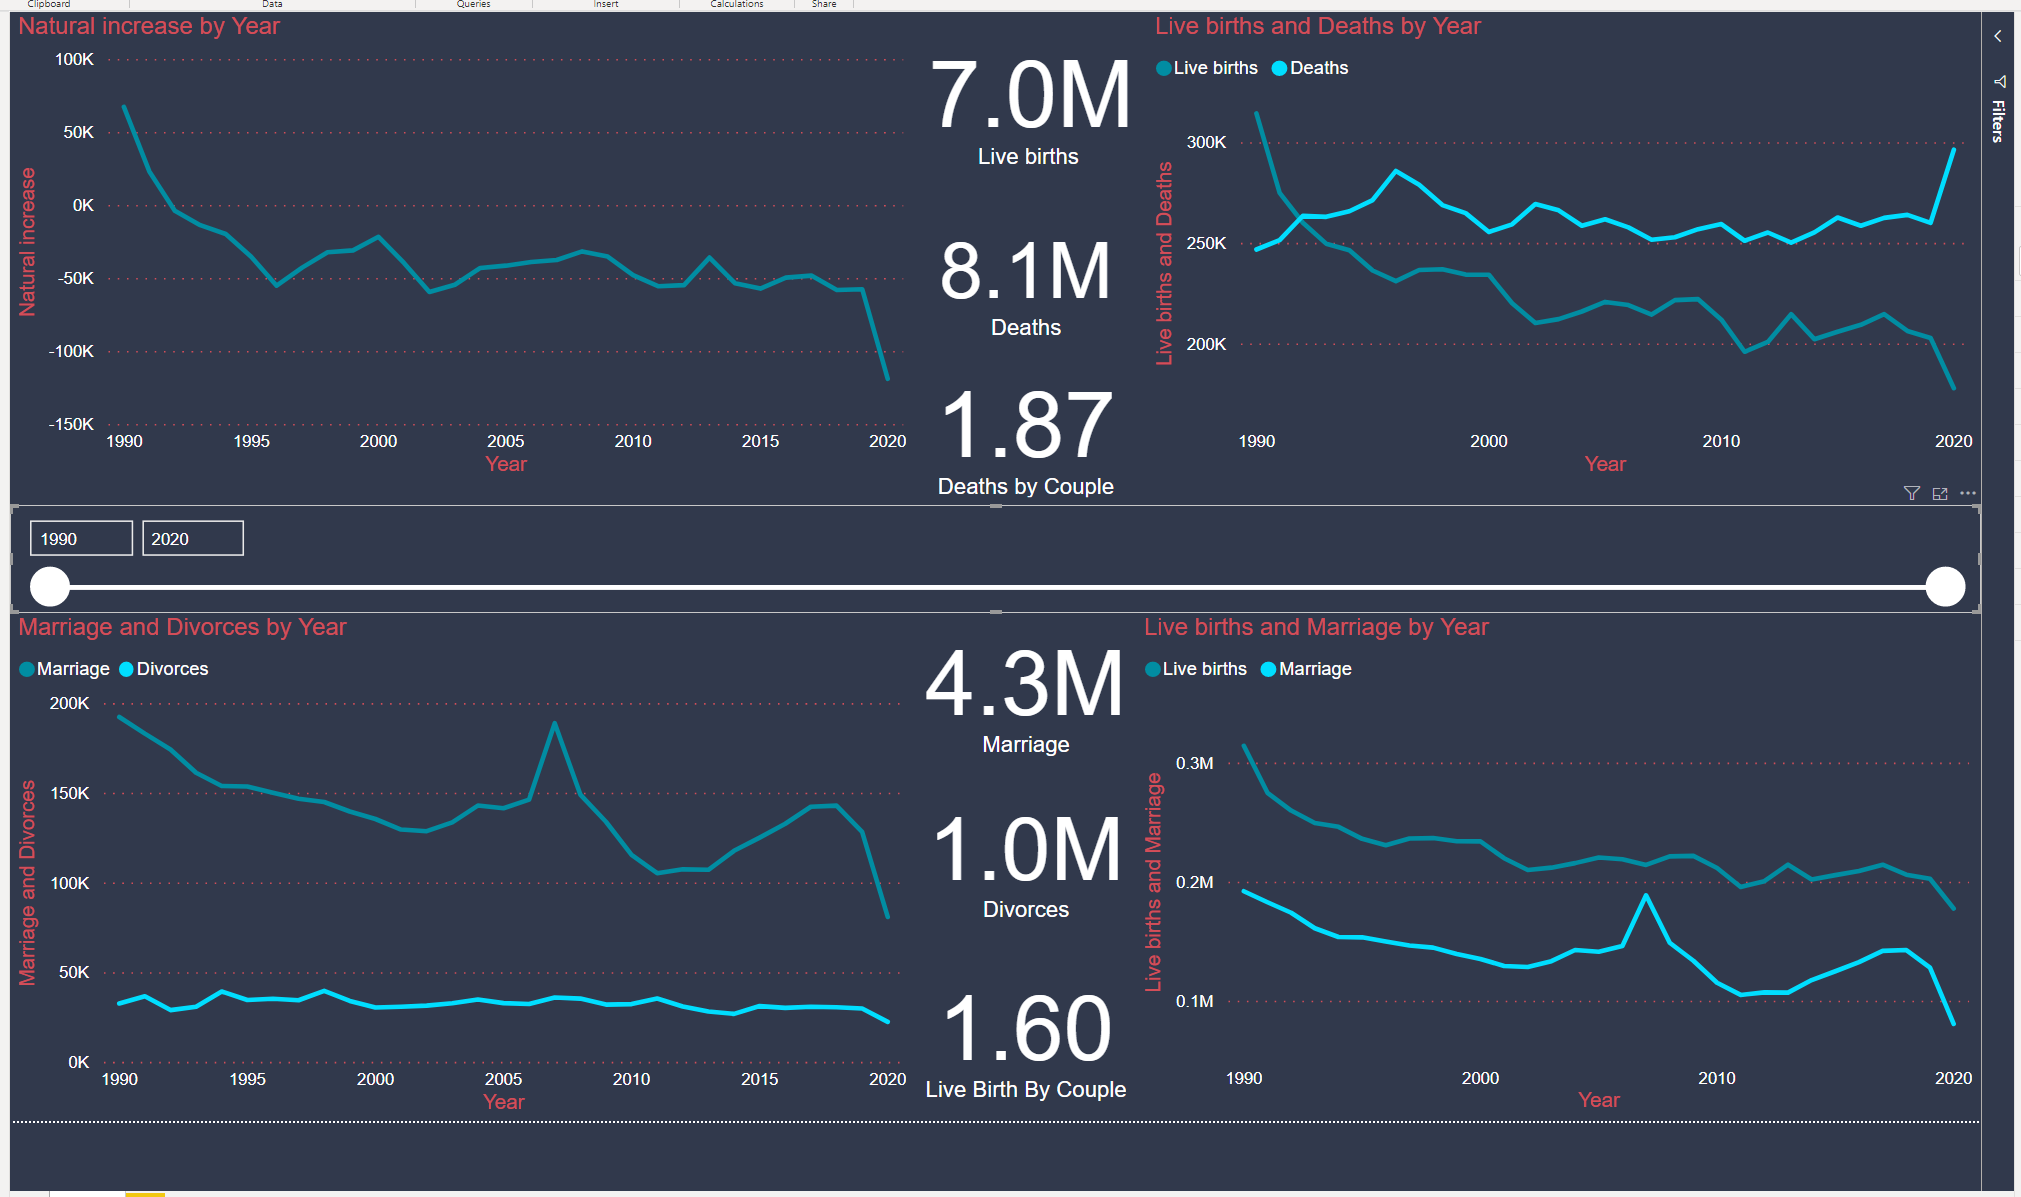

What the dashboard file says about the page in this screenshot:
{"tool":"powerbi","page":{"name":"Page 1","canvas":[1280,720],"ordinal":0},"visuals":[{"type":"lineChart","fields":{"Category":["The natural movement 1990-2020.Year"],"Y":["Sum(The natural movement 1990-2020.Natural increase)"]},"box":[0,0,588.4,305.9],"z":0},{"type":"lineChart","fields":{"Category":["The natural movement 1990-2020.Year"],"Y":["Sum(The natural movement 1990-2020.Marriage)","Sum(The natural movement 1990-2020.Divorces)"]},"box":[0,390.3,588.4,329.9],"z":1000},{"type":"lineChart","fields":{"Category":["The natural movement 1990-2020.Year"],"Y":["Sum(The natural movement 1990-2020.Live births )","Sum(The natural movement 1990-2020.Deaths)"]},"box":[738.4,0,541.6,305.9],"z":2000},{"type":"card","fields":{"Values":["Sum(The natural movement 1990-2020.Live births )"]},"box":[588.2,0,150,112.7],"z":3000},{"type":"card","fields":{"Values":["Sum(The natural movement 1990-2020.Deaths)"]},"box":[588.4,112.3,142.9,95.5],"z":4000},{"type":"card","fields":{"Values":["Sum(The natural movement 1990-2020.Marriage)"]},"box":[588.4,390.3,142.9,98.1],"z":5000},{"type":"card","fields":{"Values":["Sum(The natural movement 1990-2020.Divorces)"]},"box":[588.4,488.4,142.9,118.2],"z":6000},{"type":"lineChart","fields":{"Category":["The natural movement 1990-2020.Year"],"Y":["Sum(The natural movement 1990-2020.Live births )","Sum(The natural movement 1990-2020.Marriage)"]},"box":[731.2,390.3,548.8,329.3],"z":7000},{"type":"card","fields":{"Values":["The natural movement 1990-2020.Live births  divided by Marriage"]},"box":[588.4,606.6,142.9,113],"z":8000},{"type":"slicer","fields":{"Values":["The natural movement 1990-2020.Year"]},"box":[0,305.9,1280,84.4],"z":9000},{"type":"card","fields":{"Values":["The natural movement 1990-2020.Deaths divided by Marriage"]},"box":[585.8,207.8,148.1,98.1],"z":10000}]}

Visuals, with their boxes on the page's 1280x720 design canvas (x1, y1, x2, y2). These are canvas units, not pixel positions in the 2021x1197 screenshot, which may show the page scaled, cropped or inside an application window:
lineChart - The natural movement 1990-2020.Year x Sum(The natural movement 1990-2020.Natural increase): rect(0, 0, 588, 306)
lineChart - The natural movement 1990-2020.Year x Sum(The natural movement 1990-2020.Marriage): rect(0, 390, 588, 720)
lineChart - The natural movement 1990-2020.Year x Sum(The natural movement 1990-2020.Live births ): rect(738, 0, 1280, 306)
card - Sum(The natural movement 1990-2020.Live births ): rect(588, 0, 738, 113)
card - Sum(The natural movement 1990-2020.Deaths): rect(588, 112, 731, 208)
card - Sum(The natural movement 1990-2020.Marriage): rect(588, 390, 731, 488)
card - Sum(The natural movement 1990-2020.Divorces): rect(588, 488, 731, 607)
lineChart - The natural movement 1990-2020.Year x Sum(The natural movement 1990-2020.Live births ): rect(731, 390, 1280, 720)
card - The natural movement 1990-2020.Live births  divided by Marriage: rect(588, 607, 731, 720)
slicer - The natural movement 1990-2020.Year: rect(0, 306, 1280, 390)
card - The natural movement 1990-2020.Deaths divided by Marriage: rect(586, 208, 734, 306)
